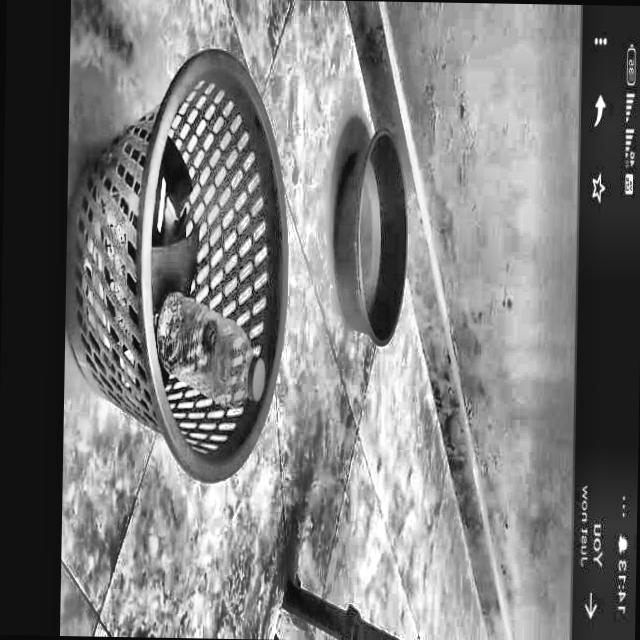Bottle-Disposed: (138, 48, 288, 490)
